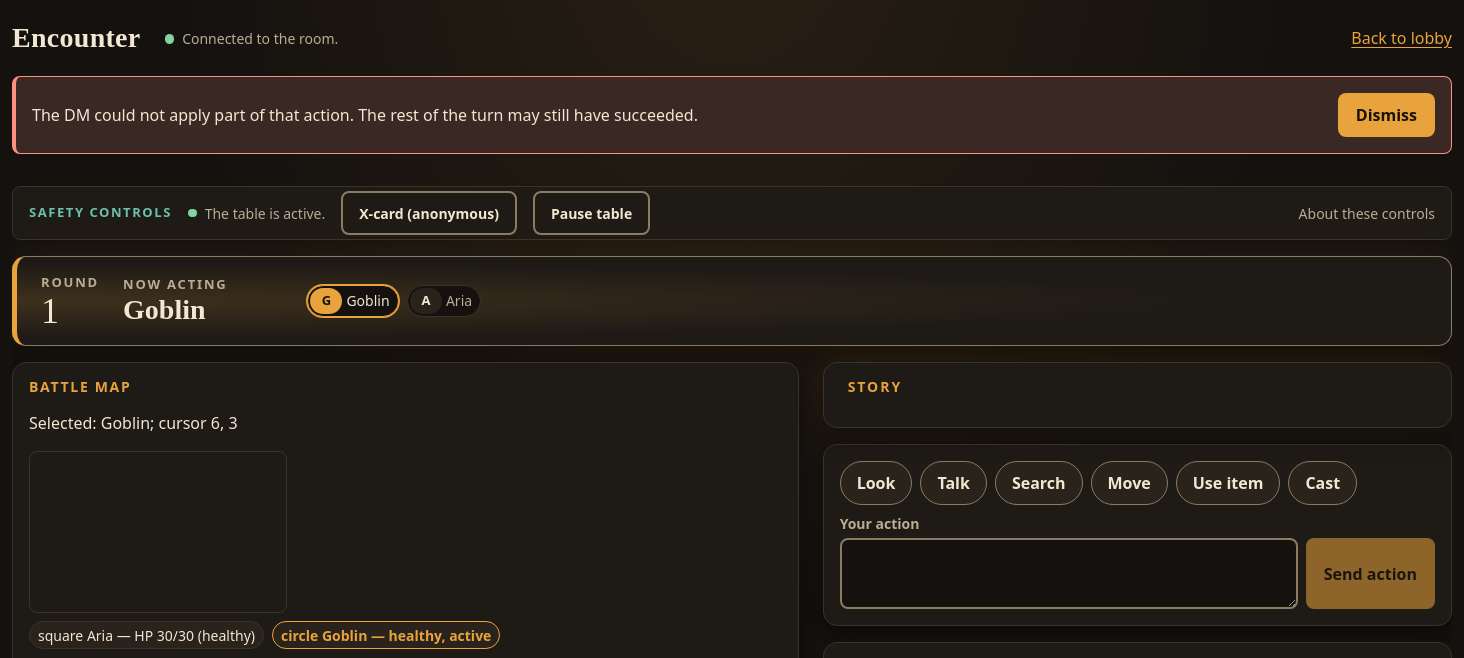
Test: Game screen (live Room) › a partial DM failure shows as a dismissible alert in the page flow
Expected: the 2nd message shows "The DM could not apply part of that action.", [32,104,698,126]
Step 1. Click the button "Dismiss" → (1386, 115), box [1338,93,1435,137]
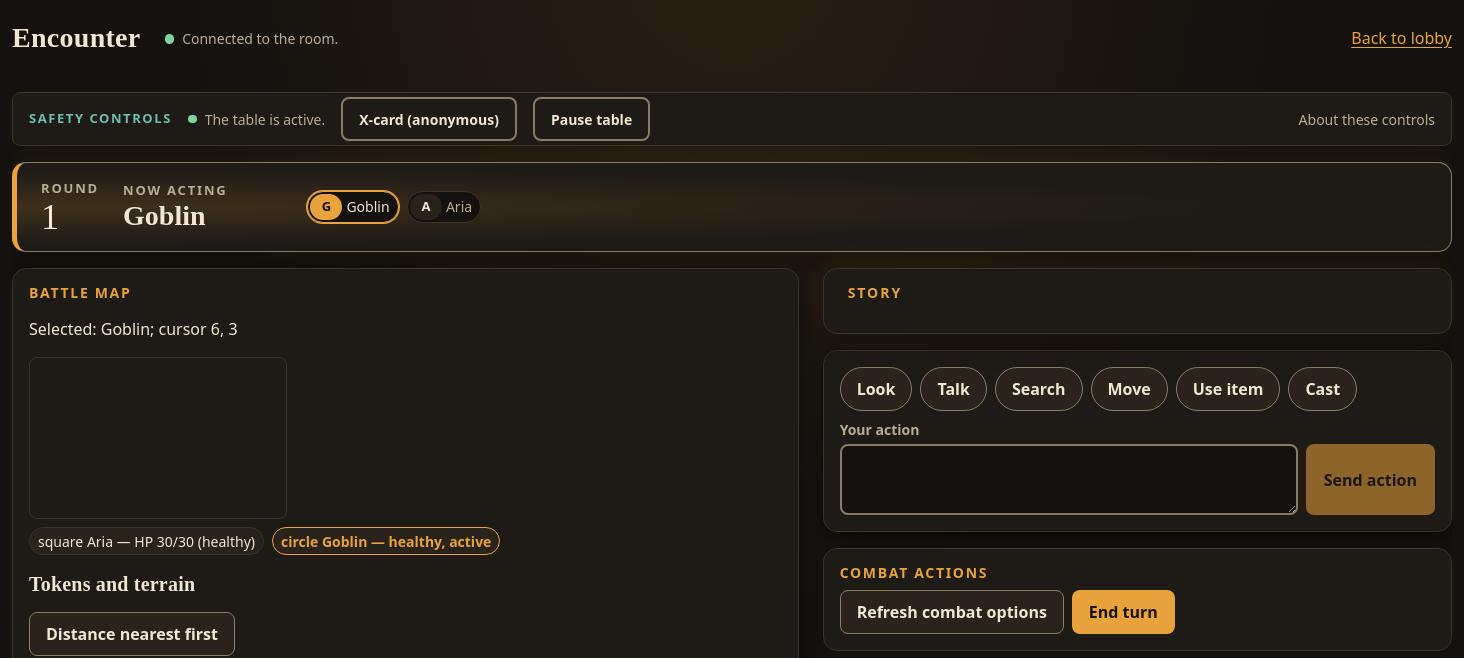
Expected: the text "The DM could not apply part of that action." is gone
